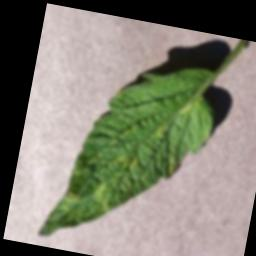Leaf_Mold: (107, 147, 142, 176), (88, 179, 115, 213), (63, 187, 81, 205), (152, 121, 169, 140)
